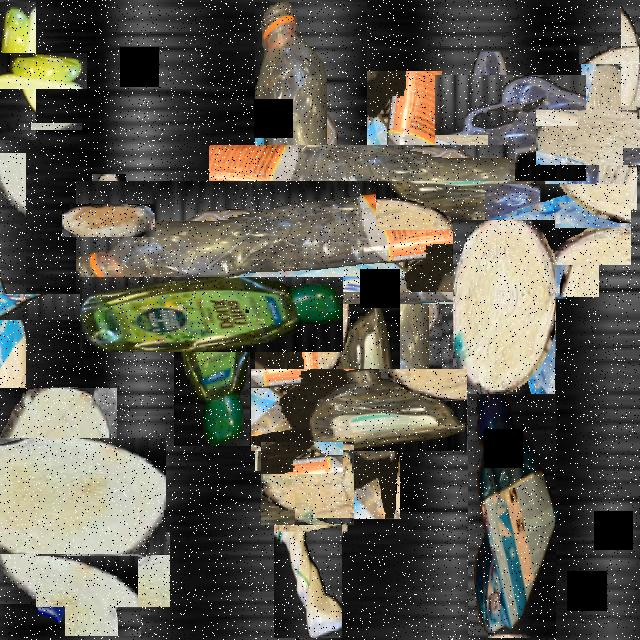glass: (501, 167, 615, 281), (51, 516, 156, 622), (25, 512, 87, 622), (0, 84, 45, 167)
plastic: (166, 91, 456, 382), (246, 107, 478, 340), (261, 197, 449, 439), (127, 230, 297, 399), (284, 336, 434, 485), (468, 393, 556, 638), (446, 63, 574, 193), (0, 223, 96, 391), (274, 489, 342, 638), (0, 27, 61, 114)
wood: (0, 412, 141, 579), (453, 220, 555, 394), (558, 86, 640, 187), (264, 439, 352, 528), (77, 189, 141, 252), (600, 24, 640, 85)
